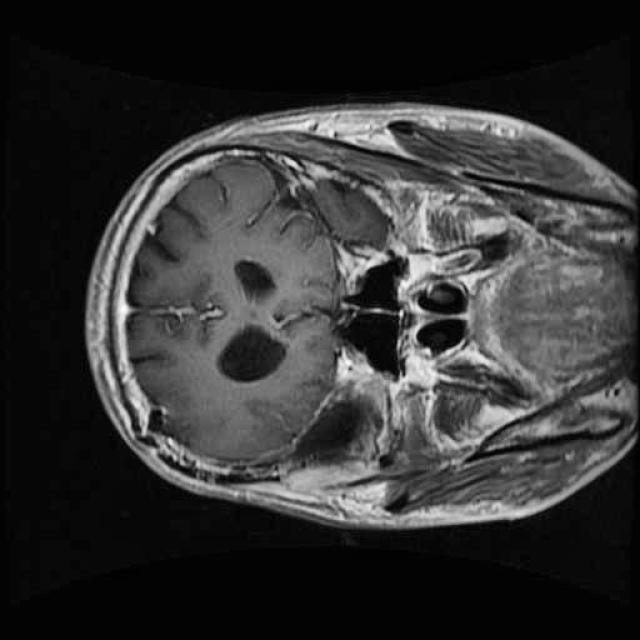Tumor: (267, 378, 397, 492)
